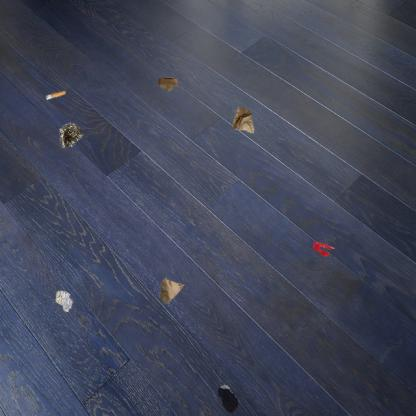dirty: (157, 276, 186, 306), (57, 121, 85, 149), (232, 106, 256, 134), (54, 289, 74, 312), (156, 76, 179, 94), (44, 89, 66, 101)
liquid: (216, 384, 240, 414), (312, 241, 335, 258)
